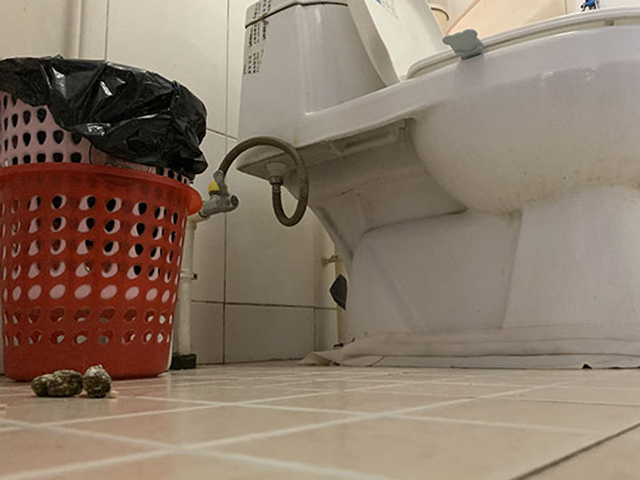closestool: (238, 1, 639, 380)
feces: (30, 363, 113, 399)
trash can: (1, 56, 208, 380)
